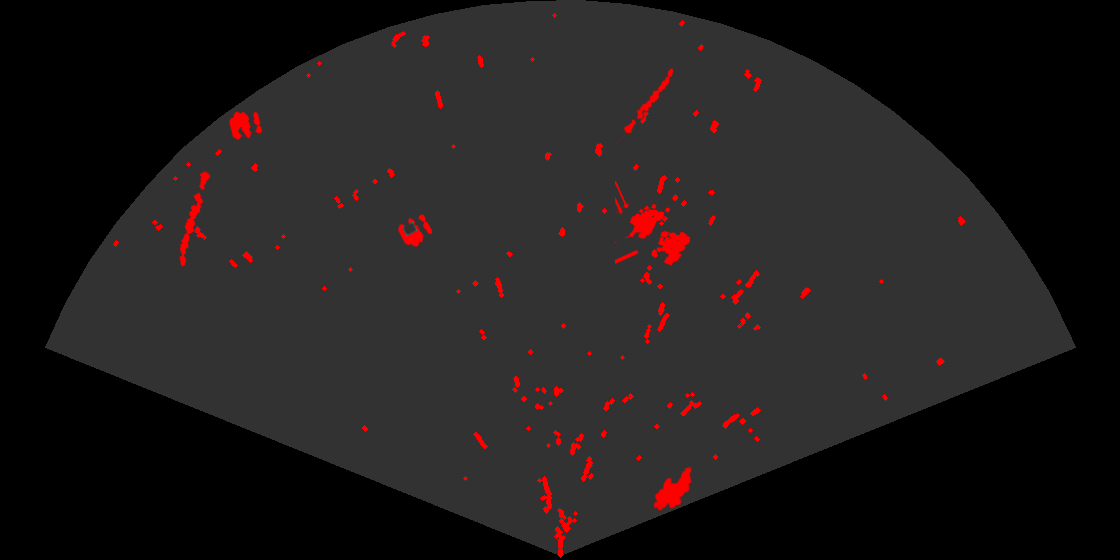AUV: (652, 465, 693, 512)
ball: (396, 213, 434, 248), (228, 110, 264, 142)
cage: (615, 181, 692, 267)
chain: (616, 67, 675, 144), (178, 169, 212, 268)
